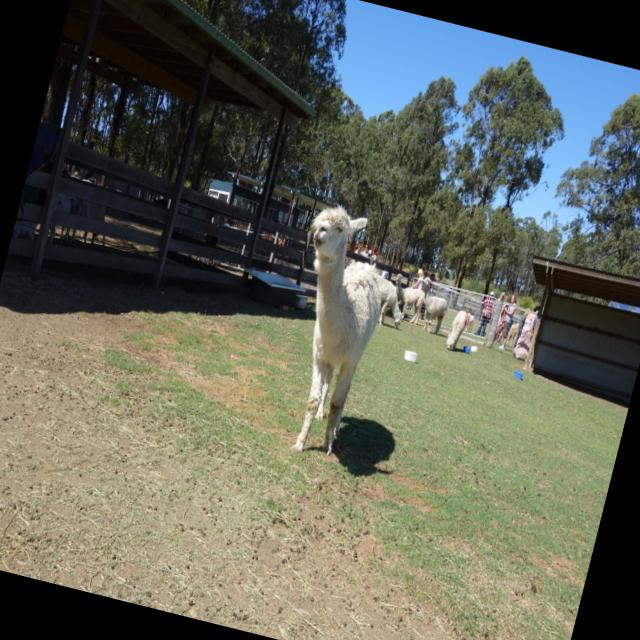alpaca: (253, 199, 402, 464), (408, 276, 452, 334), (387, 269, 426, 320)
